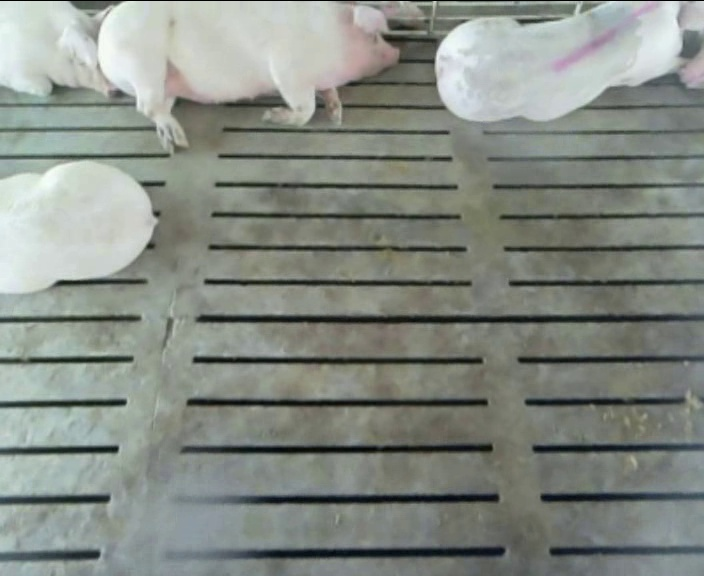pig: (98, 2, 398, 152), (435, 2, 703, 121), (0, 161, 157, 292)
